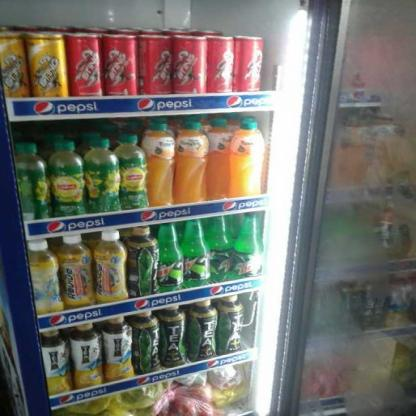another: (12, 142, 53, 220), (44, 138, 85, 213), (80, 137, 121, 212), (112, 132, 150, 208), (179, 217, 212, 284), (153, 221, 184, 290), (232, 211, 264, 276), (204, 215, 235, 281)
olong-tea: (122, 225, 160, 294), (130, 311, 161, 372), (184, 301, 219, 355), (158, 305, 188, 364), (214, 295, 244, 348)
olong-teaplus: (98, 317, 137, 376), (36, 327, 72, 390), (67, 322, 105, 380)
revive-chanhmuoi-chai: (23, 237, 66, 312), (55, 234, 94, 306), (89, 230, 130, 297)
sting-red: (61, 27, 108, 98), (96, 28, 140, 97), (166, 29, 210, 94), (134, 28, 176, 96), (230, 33, 268, 96), (202, 31, 238, 95)
sting-yellow: (22, 27, 71, 99), (0, 28, 31, 100)
twister-cam: (138, 122, 176, 204), (227, 116, 264, 198), (172, 122, 208, 198), (202, 118, 234, 196)
